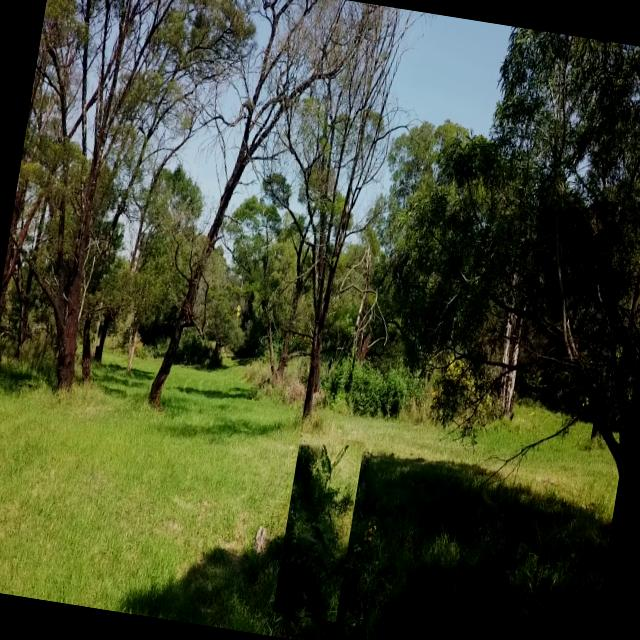Mysore-Thorn-Weed: (272, 432, 364, 622)
